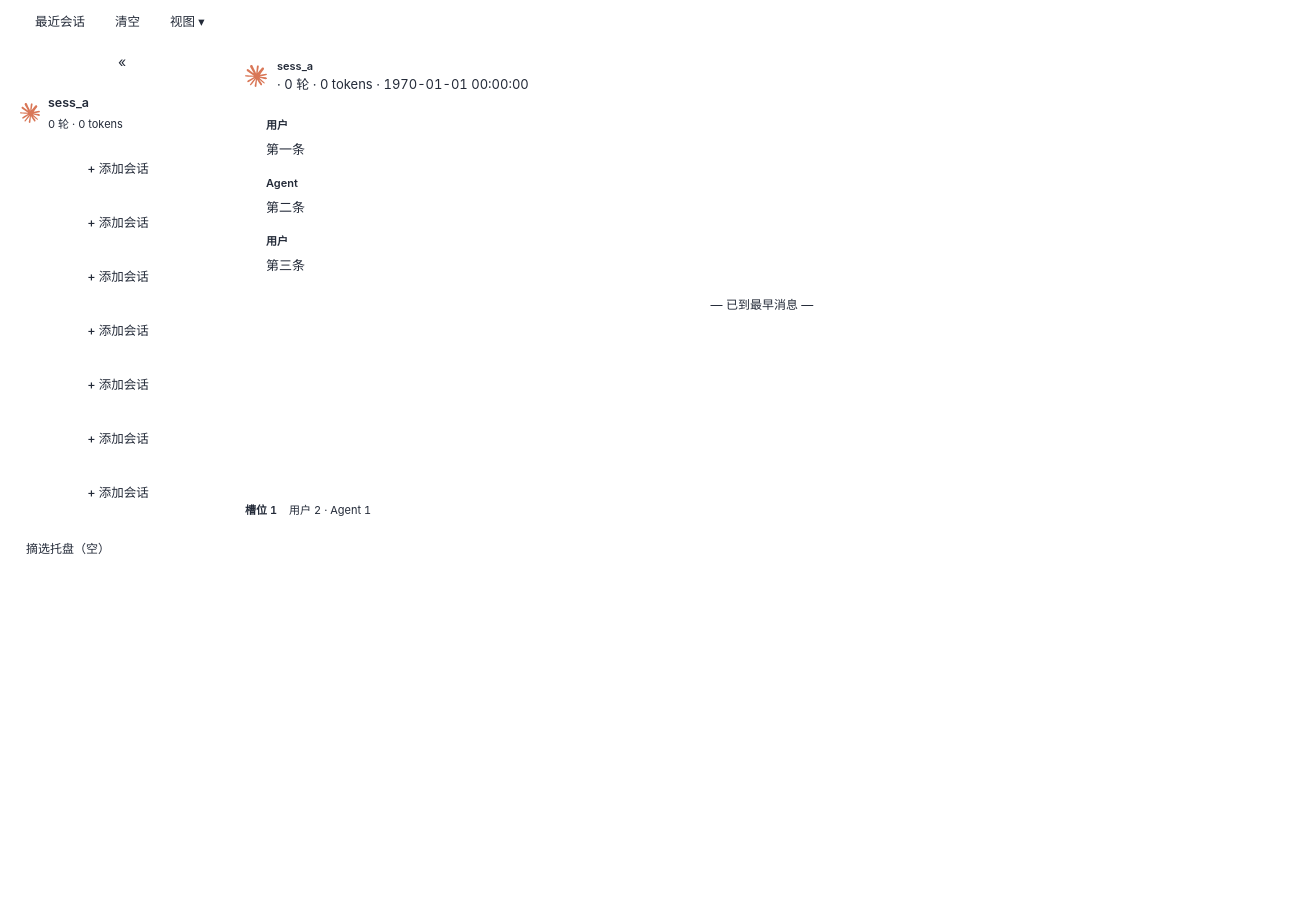
Test: WorkspaceView (t224) › Shift 连选：锚点到当前消息范围选中
This screenshot has width=1292, height=900.
Check: the text "第一条" is shown, box [266, 141, 305, 157]
Click the 1st checkbox labelled "用户 第一条" at (286, 149), box [266, 118, 305, 157]
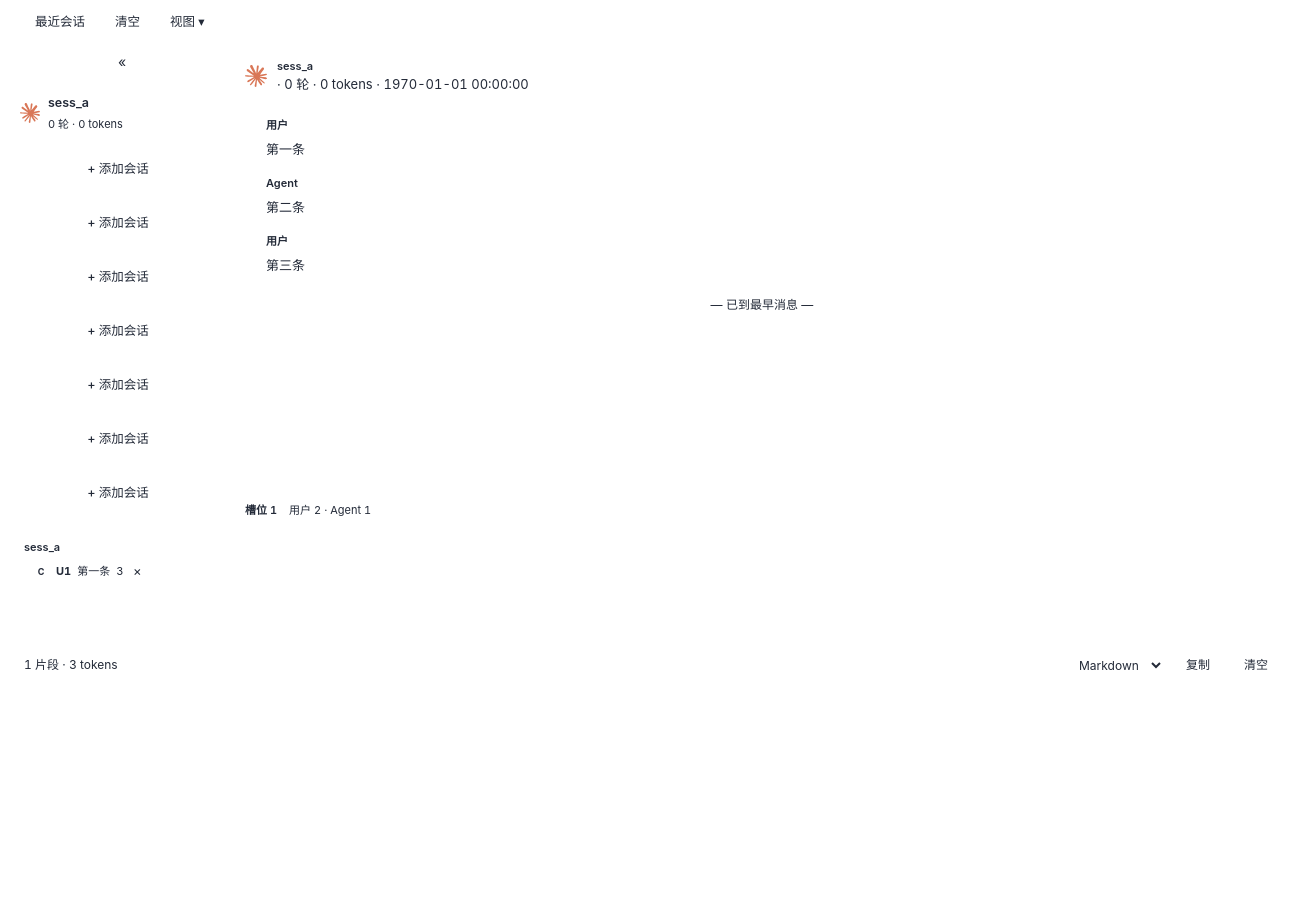
Click the 3rd checkbox labelled "用户 第三条" at (286, 265), box [266, 234, 305, 273]
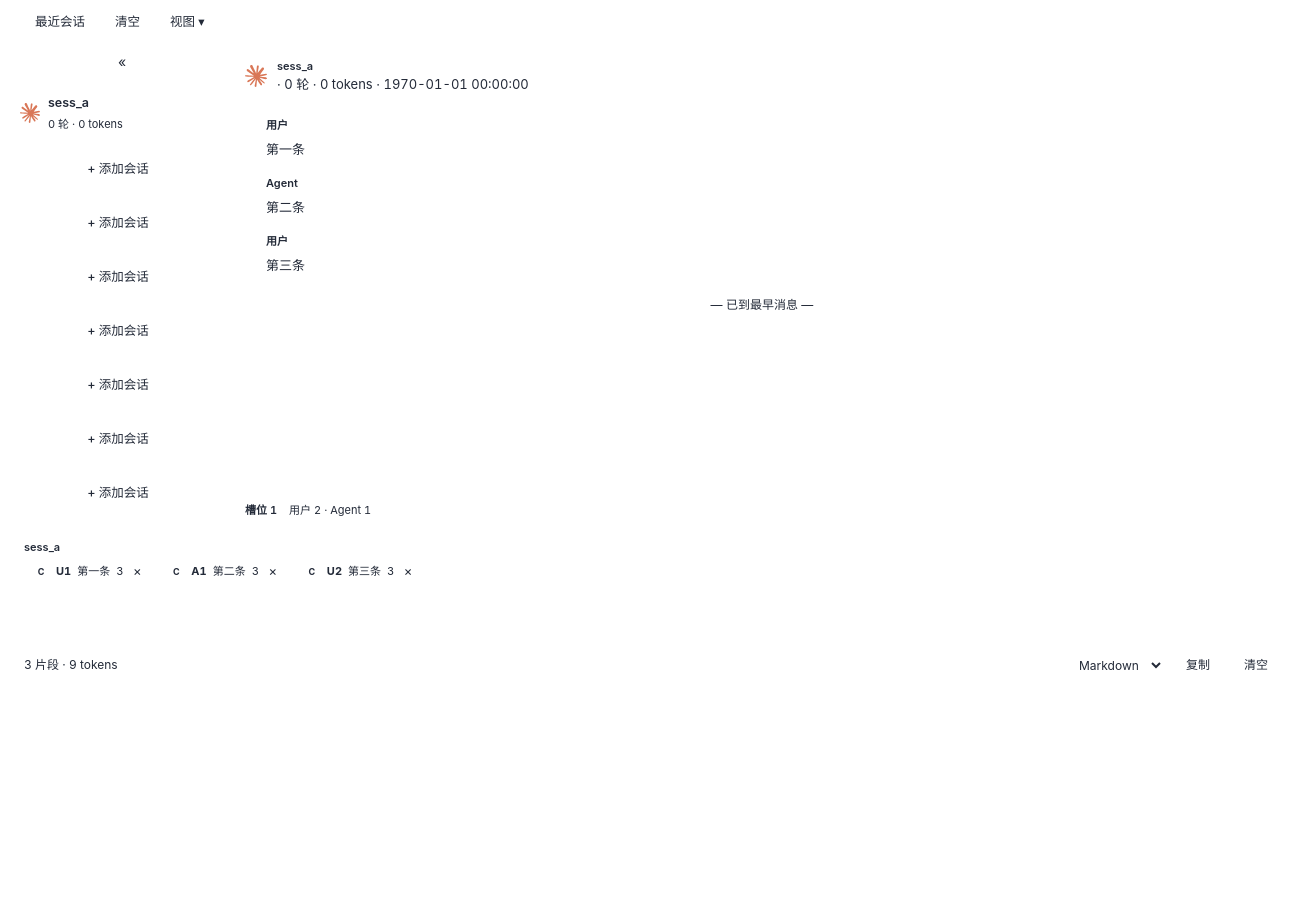
Check: the text with class "tray-count" shows "3 片段", box [24, 656, 118, 674]
Click the 2nd checkbox labelled "Agent 第二条" at (282, 183), box [266, 176, 305, 215]
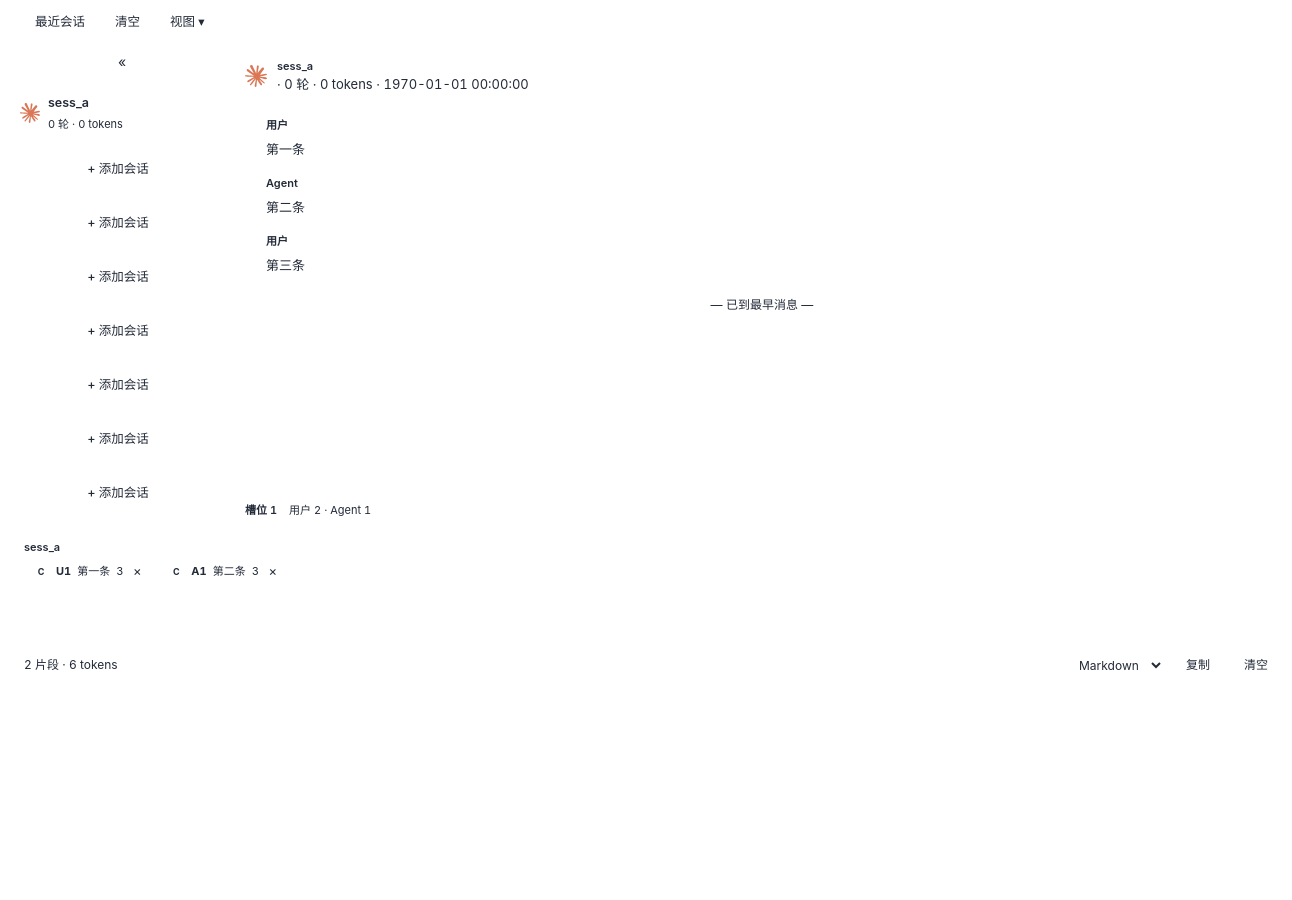
Check: the 3rd checkbox labelled "用户 第三条" is not checked, box [266, 234, 305, 273]
Check: the text with class "tray-count" shows "2 片段", box [24, 656, 118, 674]
